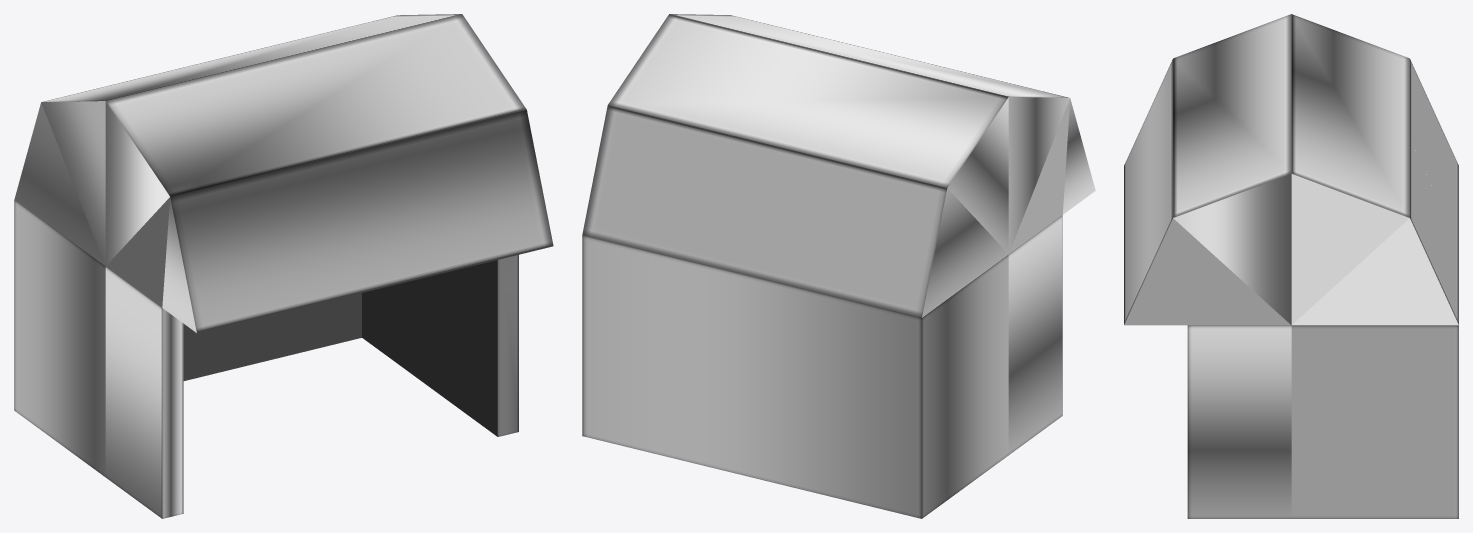
File: Bus-Stop-01.fbx
The picture shows the model from 3 angles, left to right: view 1: azimuth 30°, elevation 25°; view 2: azimuth 150°, elevation 25°; view 3: azimuth 270°, elevation 25°; orthographic projection. The views are drawn at different scales.
Visible parts, largest first — view 1: Bus_Stop_01; view 2: Bus_Stop_01; view 3: Bus_Stop_01.
Part boxes in pixels (x1=…): Bus_Stop_01: x1=14, y1=14, x2=553, y2=518; Bus_Stop_01: x1=582, y1=14, x2=1095, y2=518; Bus_Stop_01: x1=1124, y1=14, x2=1458, y2=518.
Size of the model in its own units: 1.13 by 1.14 by 1.
